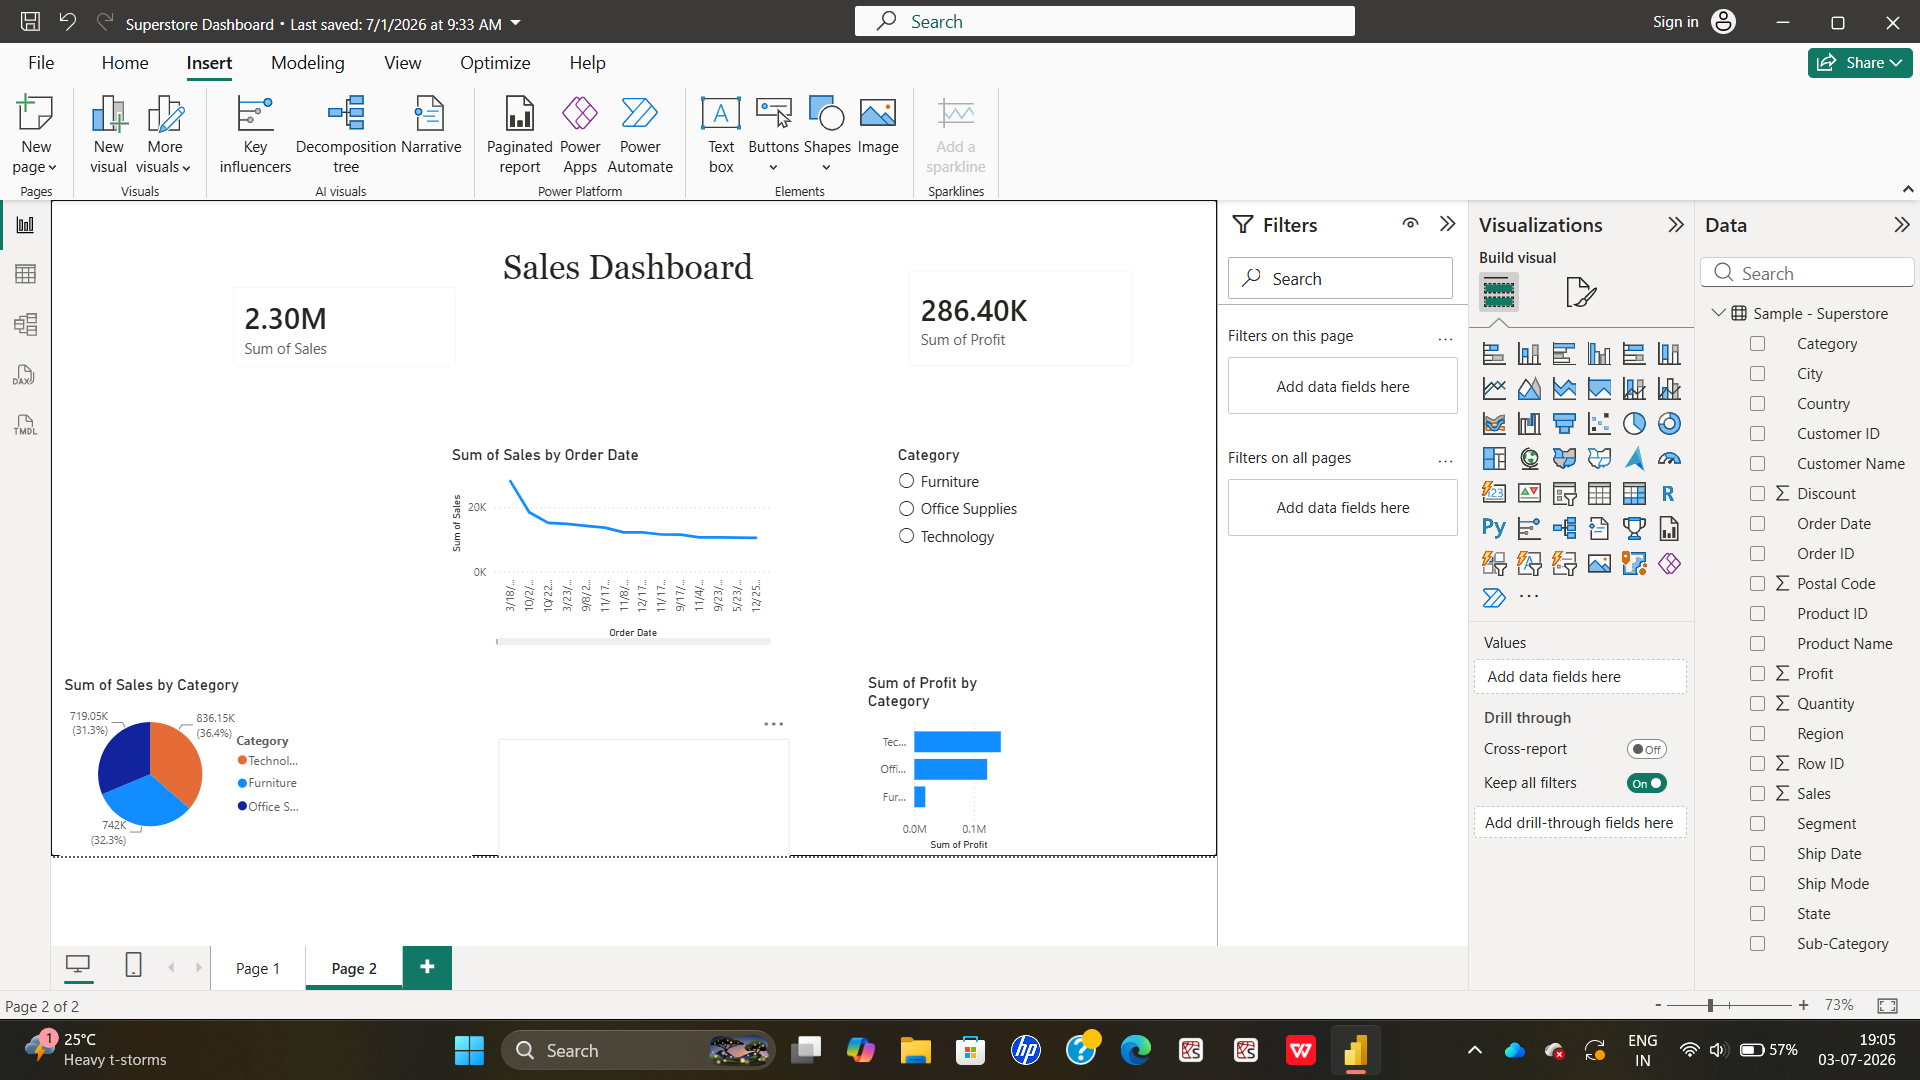

Layout of this report page (visuals, bound fields, positions):
{"tool":"powerbi","page":{"name":"Page 2","canvas":[1280,720],"ordinal":1},"visuals":[{"type":"cardVisual","fields":{"Data":["Sum(Sample - Superstore.Sales)"]},"box":[182.5,78.2,279.9,122.1],"z":0},{"type":"cardVisual","fields":{"Data":["Sum(Sample - Superstore.Profit)"]},"box":[924.9,60.4,279.9,140],"z":1},{"type":"lineChart","fields":{"Category":["Sample - Superstore.Order Date"],"Y":["Sum(Sample - Superstore.Sales)"]},"box":[435,269,360.9,225],"z":2},{"type":"pieChart","fields":{"Category":["Sample - Superstore.Category"],"Y":["Sum(Sample - Superstore.Sales)"]},"box":[10,521,280,199],"z":4},{"type":"clusteredBarChart","fields":{"Category":["Sample - Superstore.Category"],"Y":["Sum(Sample - Superstore.Profit)"]},"box":[891.9,520.1,172.9,199],"z":5},{"type":"textbox","box":[1065,520,150,199],"z":6},{"type":"textbox","box":[289.5,521.4,172.9,199],"z":7},{"type":"textbox","box":[491.3,591.4,319.7,129],"z":8},{"type":"textbox","box":[10,269,280,225],"z":9},{"type":"textbox","box":[491.3,48,304.6,52.1],"z":10},{"type":"listSlicer","fields":{"Values":["Sample - Superstore.Category"]},"box":[924.9,269,279.9,131.7],"z":11}]}

Visuals, with their boxes on the page's 1280x720 design canvas (x1, y1, x2, y2). These are canvas units, not pixel positions in the 1920x1080 screenshot, which may show the page scaled, cropped or inside an application window:
cardVisual - Sum(Sample - Superstore.Sales): <box>182,78,462,200</box>
cardVisual - Sum(Sample - Superstore.Profit): <box>925,60,1205,200</box>
lineChart - Sample - Superstore.Order Date x Sum(Sample - Superstore.Sales): <box>435,269,796,494</box>
pieChart - Sample - Superstore.Category x Sum(Sample - Superstore.Sales): <box>10,521,290,720</box>
clusteredBarChart - Sample - Superstore.Category x Sum(Sample - Superstore.Profit): <box>892,520,1065,719</box>
textbox: <box>1065,520,1215,719</box>
textbox: <box>290,521,462,720</box>
textbox: <box>491,591,811,720</box>
textbox: <box>10,269,290,494</box>
textbox: <box>491,48,796,100</box>
listSlicer - Sample - Superstore.Category: <box>925,269,1205,401</box>
